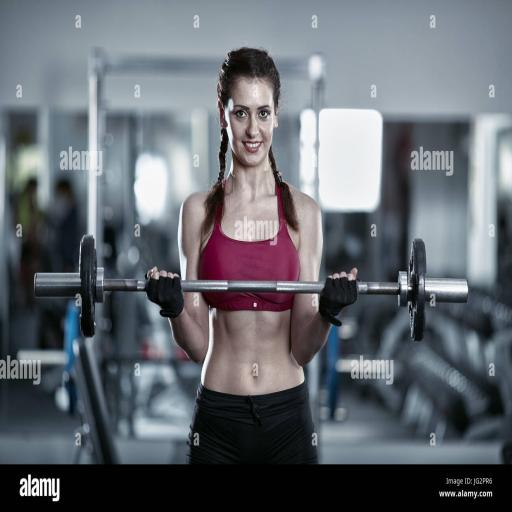exercise: (143, 45, 360, 467)
